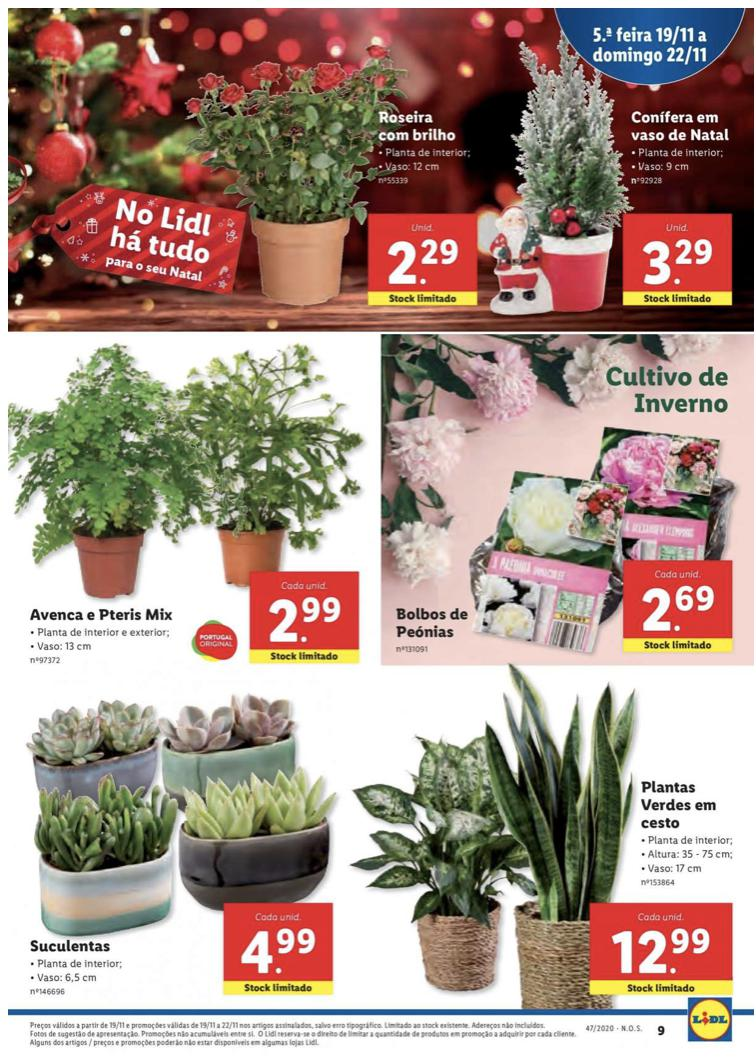name: (637, 775, 720, 832), (626, 110, 737, 144), (29, 602, 179, 627), (388, 601, 470, 643), (372, 106, 458, 146), (30, 935, 113, 959)
price: (607, 925, 712, 981), (234, 923, 322, 980), (265, 593, 346, 648), (382, 235, 466, 288), (636, 582, 717, 635), (640, 235, 717, 288)
product: (336, 669, 756, 1005), (1, 336, 376, 673), (376, 340, 743, 661), (1, 673, 336, 1005), (200, 29, 482, 326), (495, 29, 743, 319)
